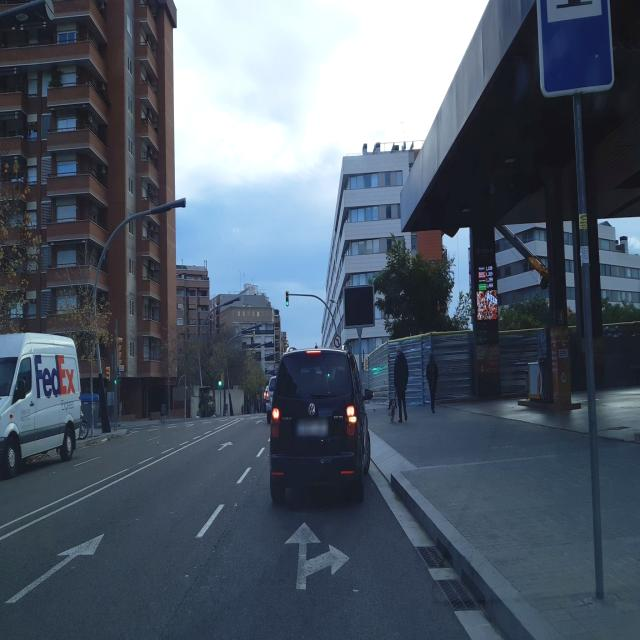car: (269, 346, 370, 506), (0, 331, 82, 481), (264, 376, 276, 422)
